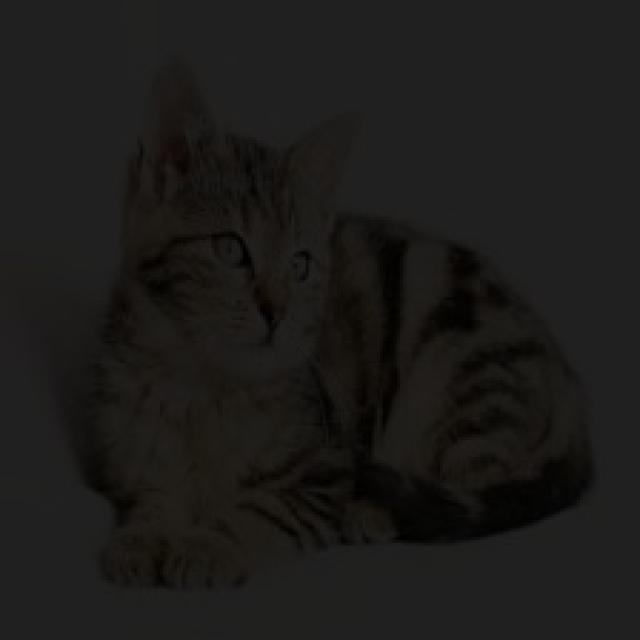animal: (41, 54, 612, 596)
